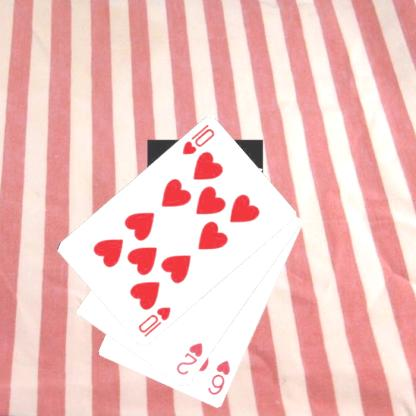10H: (136, 304, 172, 339), (180, 122, 216, 157)
2H: (173, 340, 204, 377)
6H: (205, 358, 232, 397)
